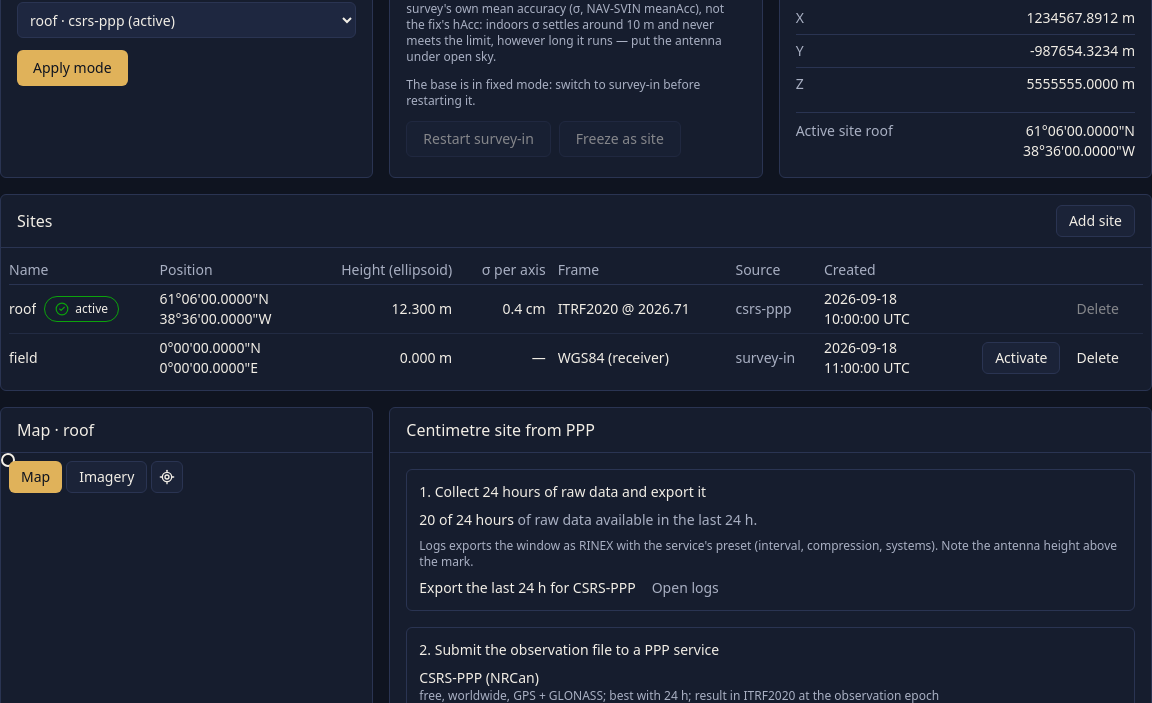
Scenario: Site page › activates a site after a confirmation and persists the mode
(page scrolled)
What coordinates should you click on to do the following:
click the button "Activate"
I would click on:
 (1021, 358)
Its box is [982,342,1060,374].
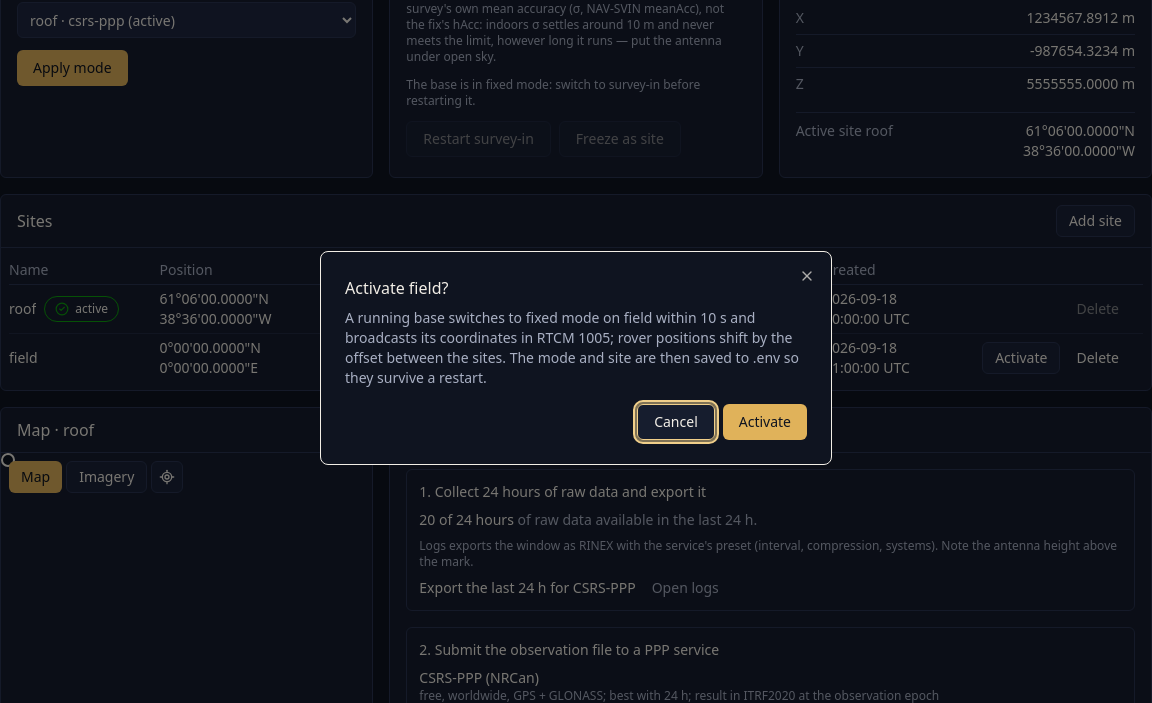
expect the dialog "Activate field" shows "within 10 s": met, box [345,308,799,387]
What coordinates should you click on to do the following:
click the button "Activate"
I would click on:
 (765, 422)
Its box is [723,404,807,440].
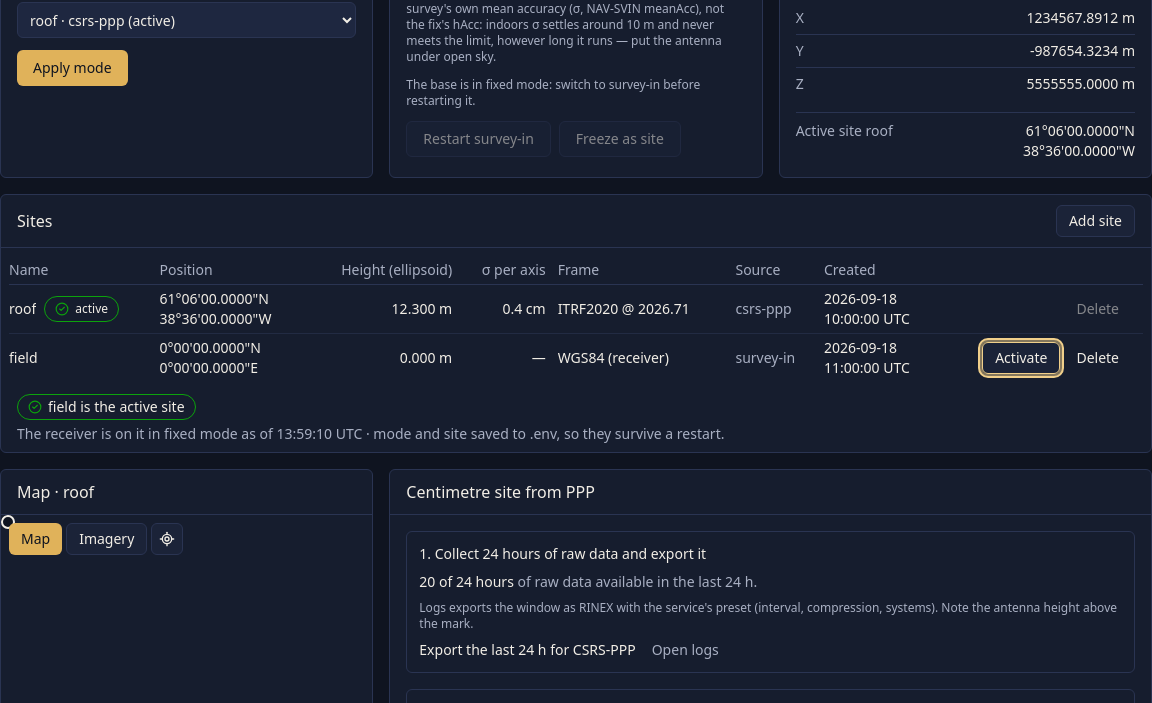
expect the message named "site result" shows "field is the active site": met, box [48,397,184,416]
expect the message named "site result" shows "saved to .env": met, box [366,424,724,443]
